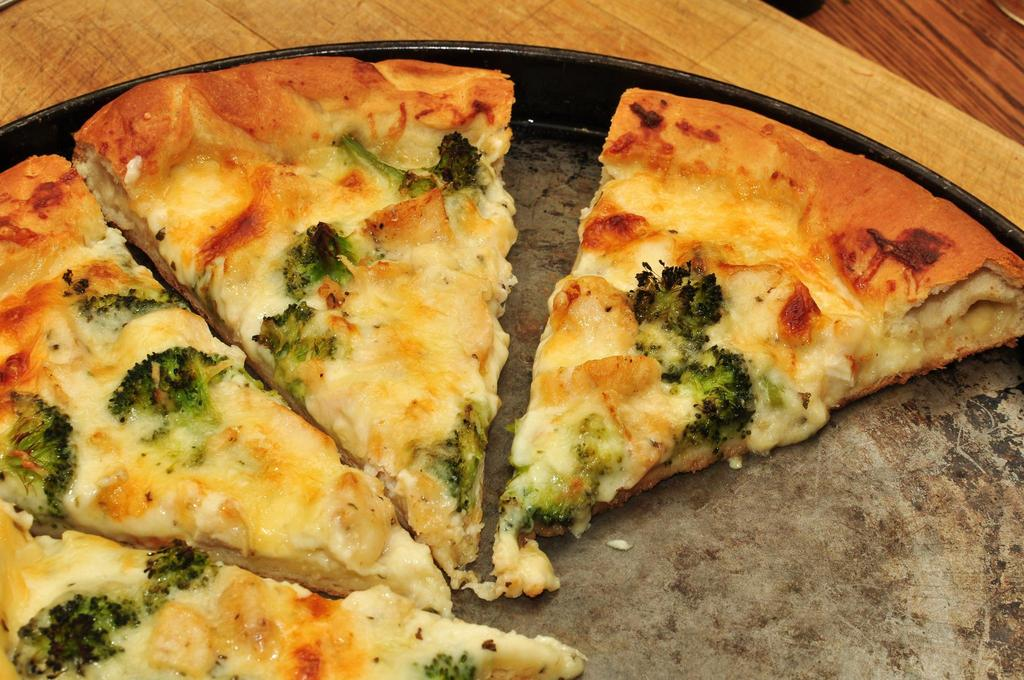Pizza: (71, 56, 516, 590), (490, 111, 1002, 550), (0, 153, 450, 612), (0, 497, 580, 679)
